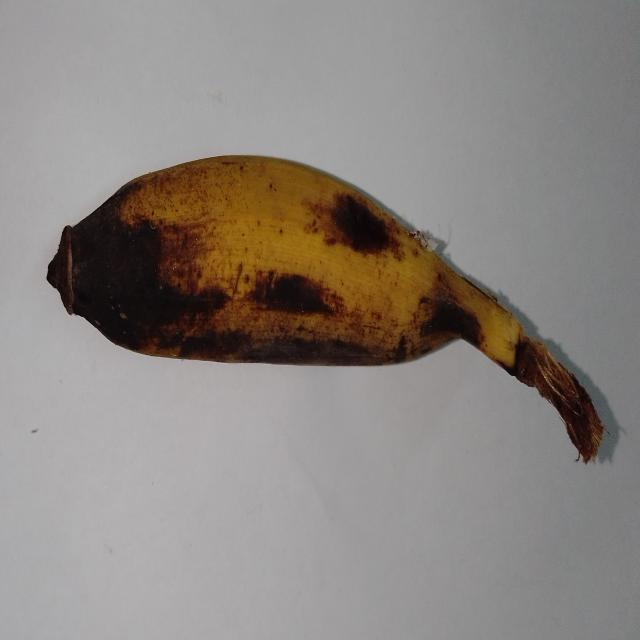banana: (48, 157, 602, 461)
